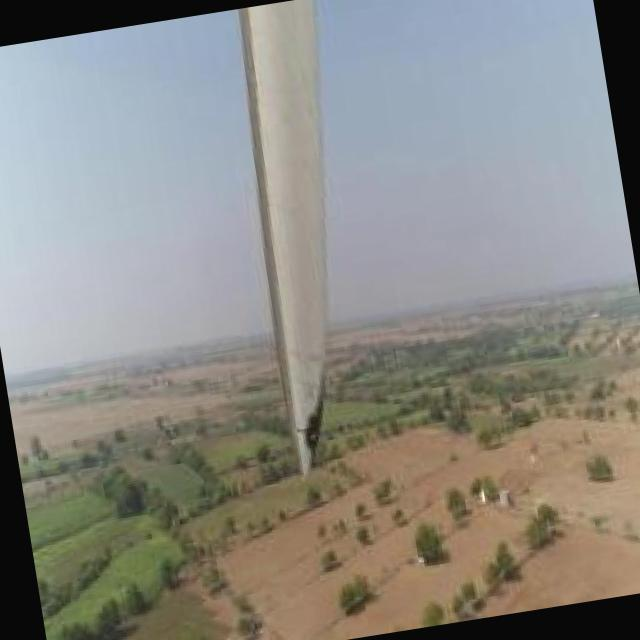Oil LEAKAGE: (301, 376, 331, 454)
